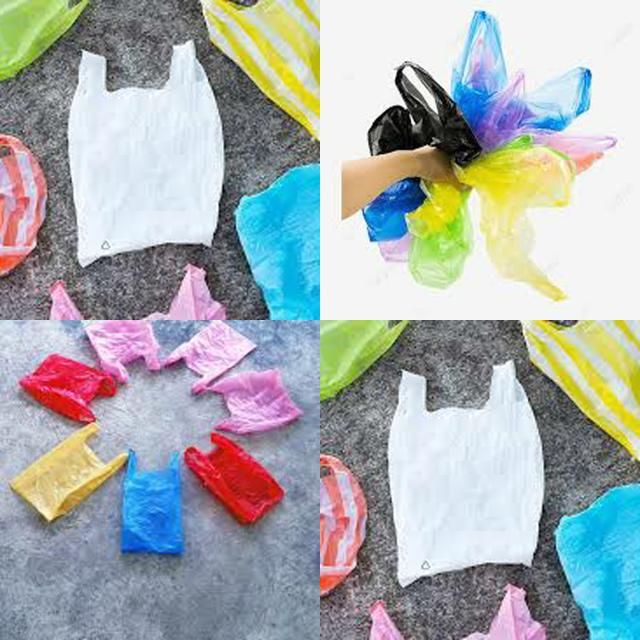Single-layer Plastic: (69, 41, 224, 266), (389, 361, 544, 586), (201, 0, 319, 139), (522, 320, 640, 459), (235, 164, 320, 320), (555, 484, 640, 639), (10, 422, 128, 521), (185, 432, 284, 523), (160, 320, 256, 394), (0, 0, 88, 79), (320, 320, 408, 399), (320, 455, 368, 596), (20, 354, 116, 423), (0, 134, 46, 276), (121, 451, 185, 553), (210, 370, 302, 434), (85, 319, 160, 382)
